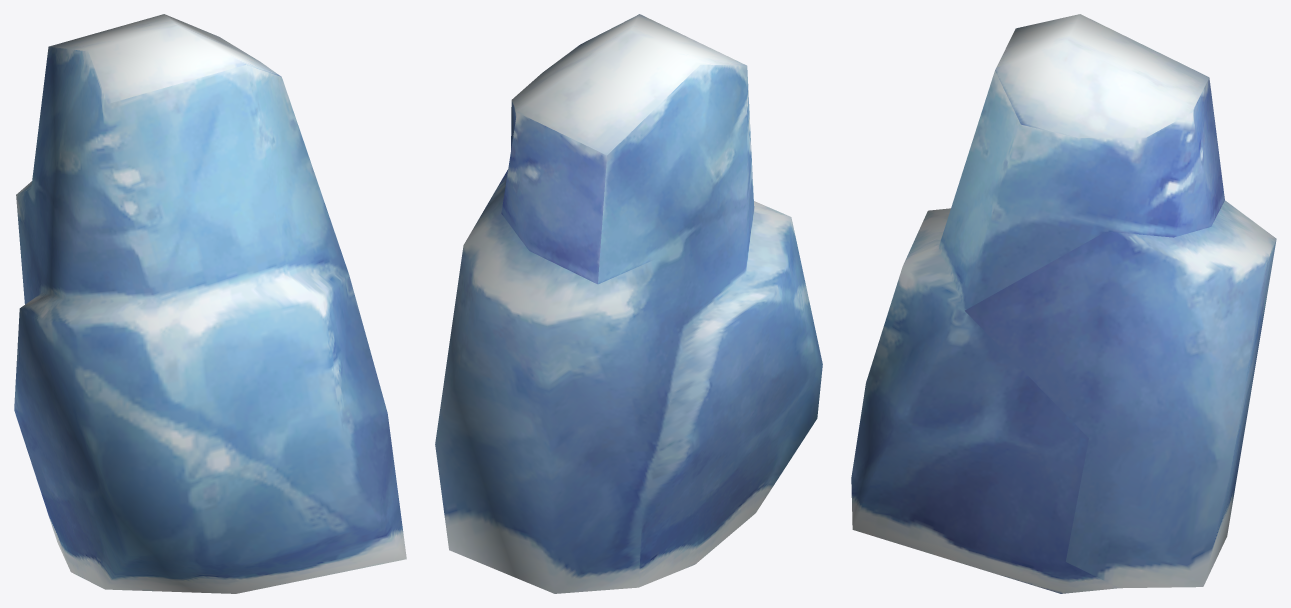
Rendered from SM_stoneA_03.fbx.
3 views of the same model, side by side, from view 1: azimuth 30°, elevation 25°; view 2: azimuth 150°, elevation 25°; view 3: azimuth 270°, elevation 25° (orthographic). The views are drawn at different scales.
Parts seen in each view (by area): view 1: SM_stoneA_03; view 2: SM_stoneA_03; view 3: SM_stoneA_03.
Boxes of the visible parts, box(x1,y1,x2,y2) form: SM_stoneA_03: box(14, 14, 406, 593); SM_stoneA_03: box(435, 14, 822, 593); SM_stoneA_03: box(851, 14, 1276, 593).
Size of the model in its own units: 7.13 by 11.96 by 9.24.
